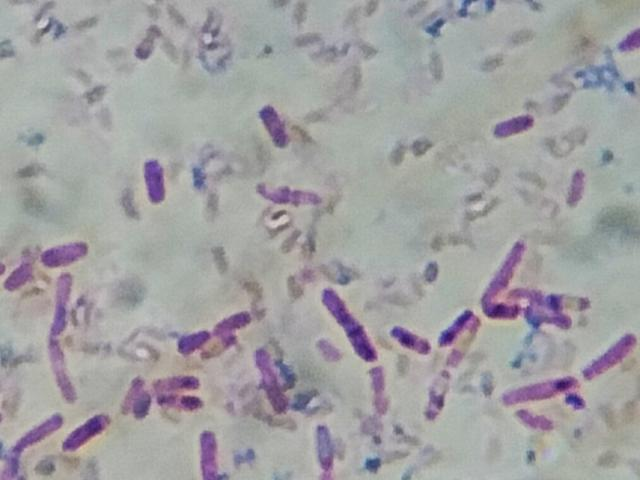E. coli: (322, 281, 379, 360), (499, 373, 583, 415), (39, 337, 83, 404), (586, 326, 640, 379), (255, 345, 292, 415), (486, 236, 528, 294), (68, 405, 113, 455), (483, 304, 577, 327), (513, 284, 591, 311), (564, 164, 599, 214), (12, 412, 61, 446), (260, 106, 296, 150), (52, 270, 77, 330), (139, 159, 170, 206), (194, 428, 223, 478), (316, 422, 344, 471), (40, 238, 93, 263), (438, 306, 468, 347), (495, 112, 535, 142), (393, 322, 427, 357), (147, 372, 200, 392), (173, 324, 209, 351), (4, 257, 31, 291), (212, 312, 249, 336), (162, 392, 204, 412), (617, 26, 640, 60), (122, 369, 139, 410), (134, 390, 146, 421)
